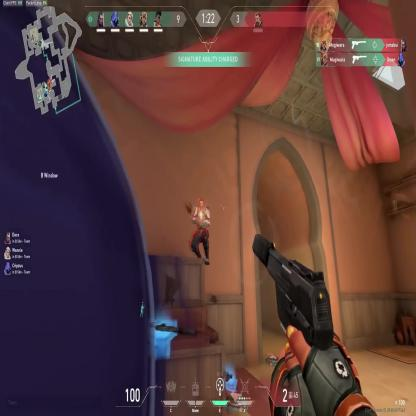enemy: (190, 198, 211, 267)
enemy_head: (199, 198, 205, 213)
